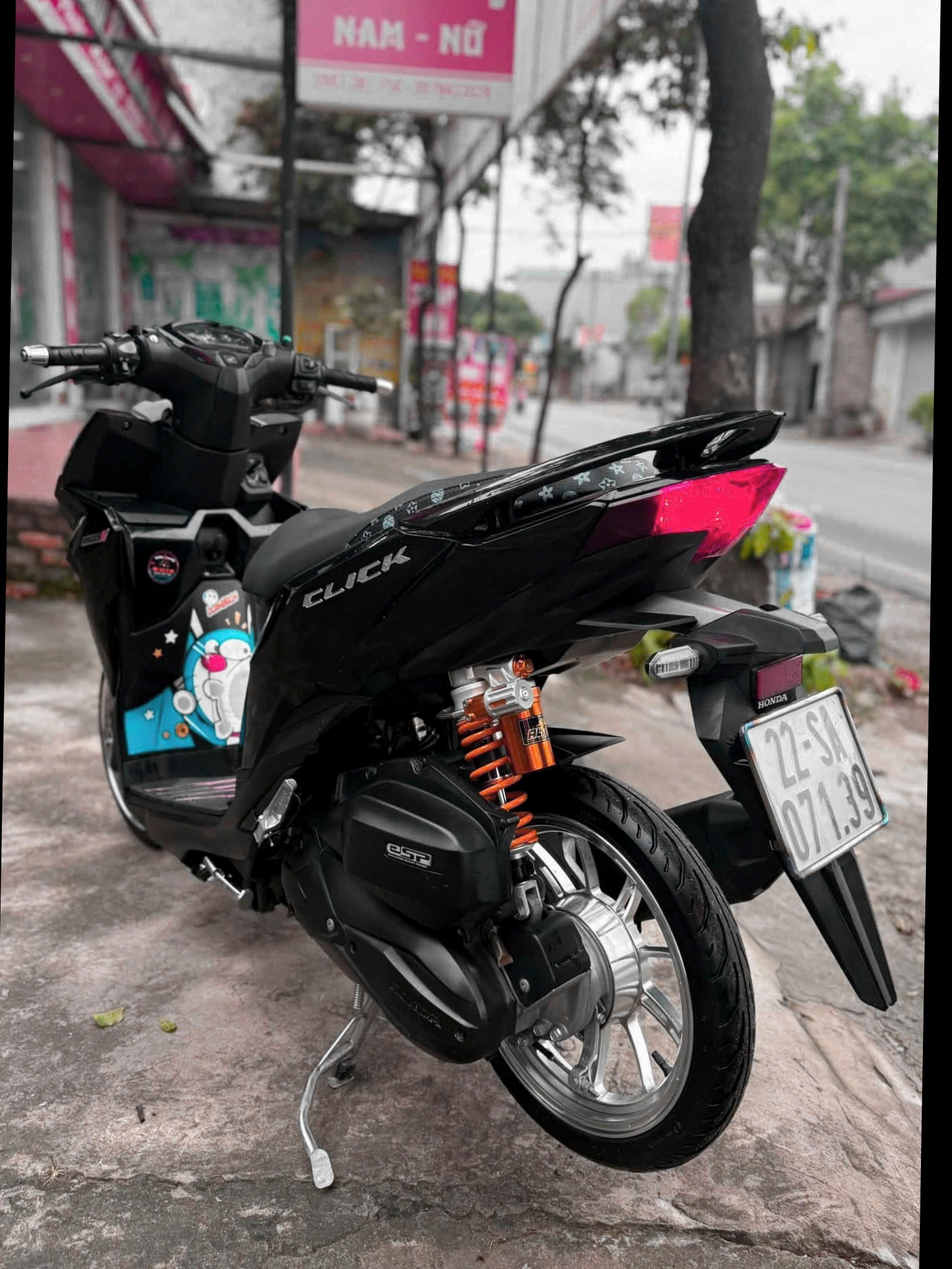Bien-so: (746, 683, 890, 882)
